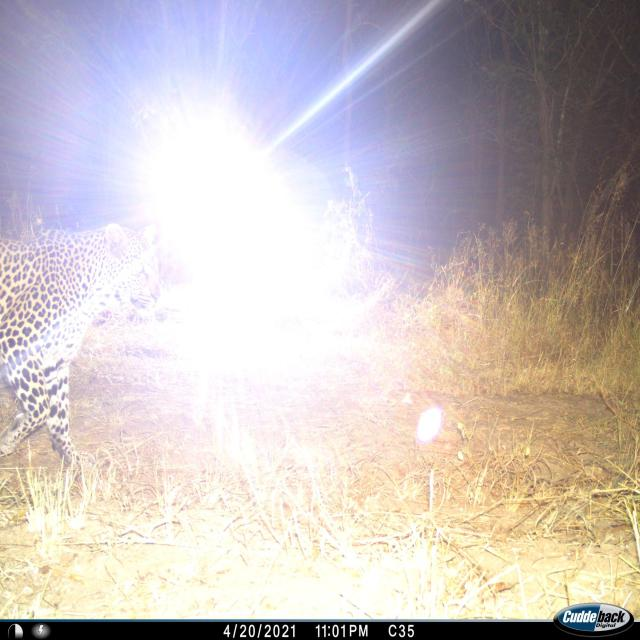Leopard: (0, 202, 156, 490)
